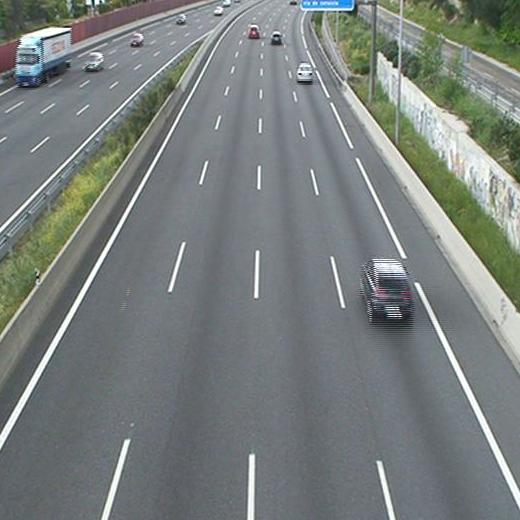car: (360, 258, 413, 326), (296, 62, 313, 83), (248, 25, 259, 39), (271, 31, 282, 45)
